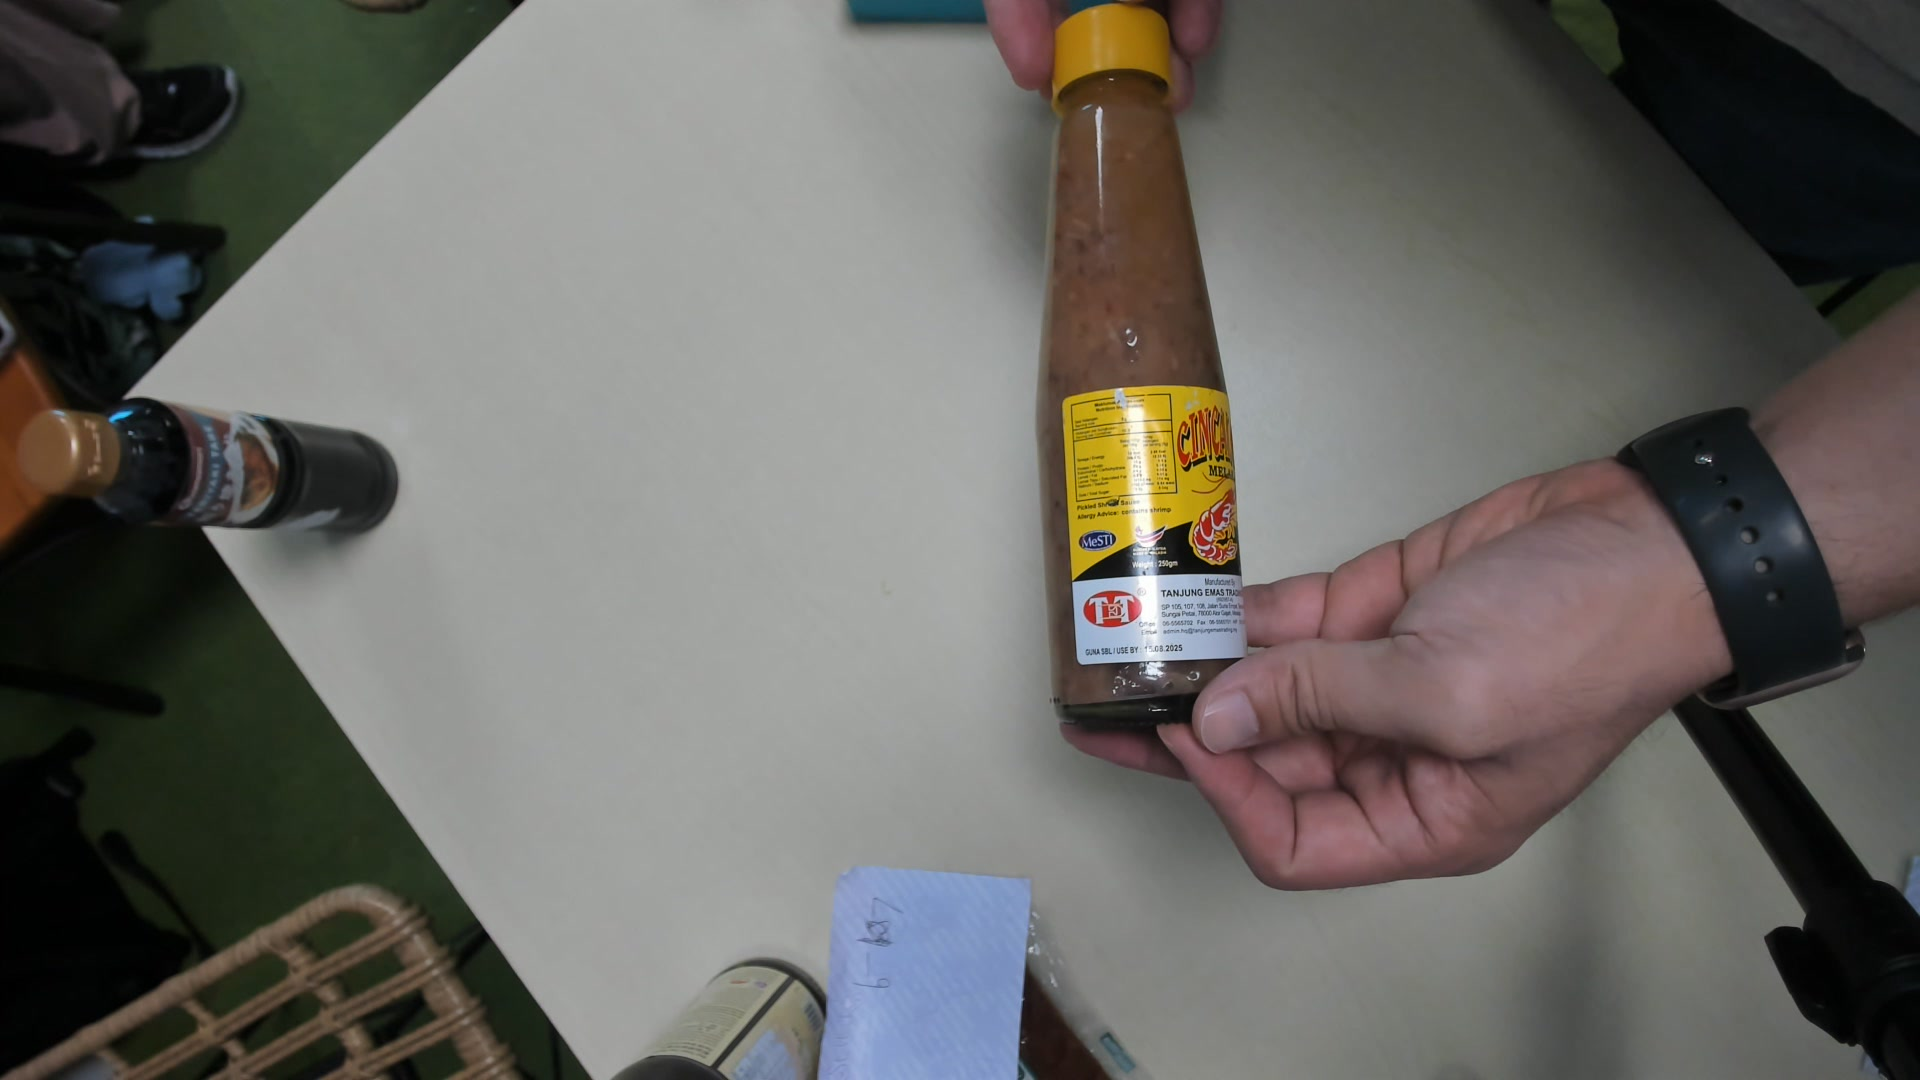OtherSauceDressingSoupbasePaste_200-299g_Halal_NonHealthy: (1040, 15, 1249, 728)
